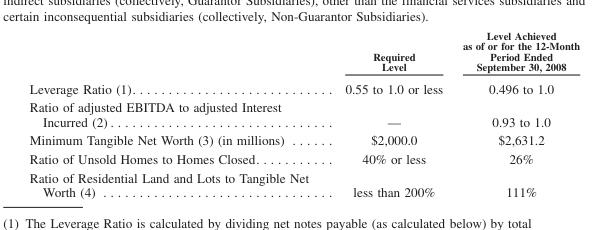table: (28, 28, 579, 198)
table column: (28, 28, 326, 198), (452, 28, 579, 198), (326, 28, 452, 198)
table column header: (28, 28, 579, 130)
table row: (28, 28, 579, 130), (28, 167, 579, 198), (28, 130, 579, 149), (28, 149, 579, 167)
